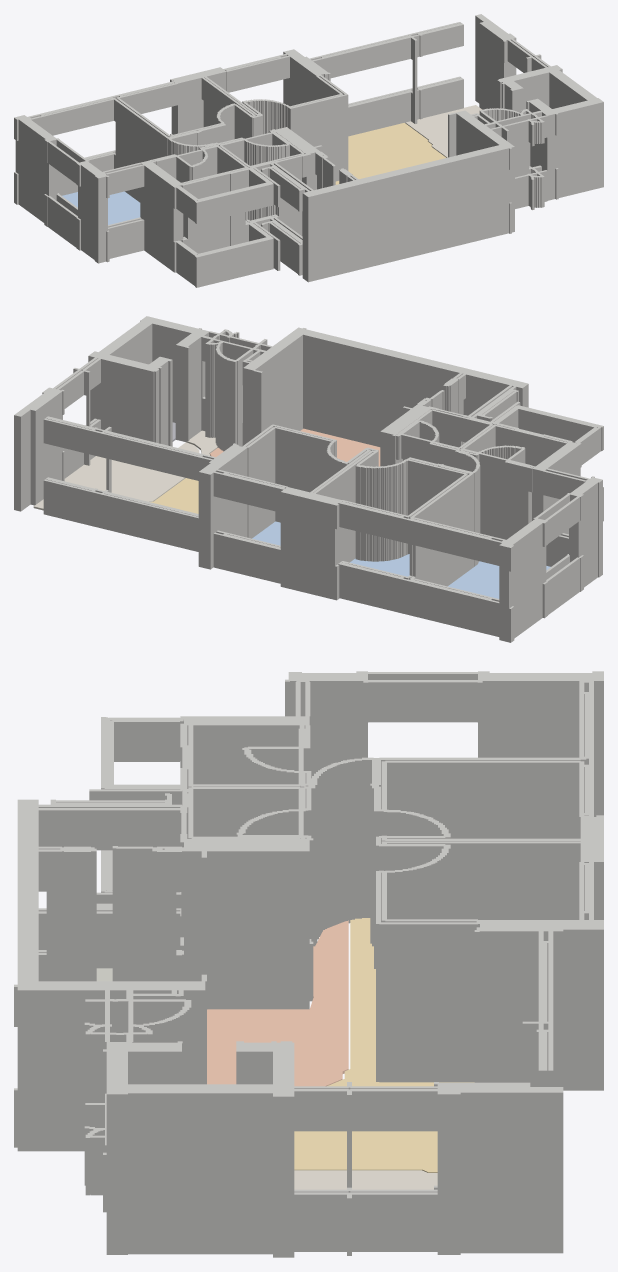
3 renders of one model, top to bottom at view 1: azimuth 30°, elevation 25°; view 2: azimuth 150°, elevation 25°; view 3: azimuth 270°, elevation 25°, orthographic. The views are drawn at different scales.
Visible parts, largest first — view 1: walls, room:living:3, room:other:6, room:bedroom:0; view 2: walls, room:other:6, room:bedroom:0, room:living:3, room:kitchen:5, room:bedroom:1; view 3: walls, room:kitchen:5, room:living:3, room:other:6.
Boxes of the visible parts, bbox=[...] form: walls: bbox=[14, 14, 603, 287]; room:living:3: bbox=[335, 123, 446, 184]; room:other:6: bbox=[405, 105, 482, 157]; room:bedroom:0: bbox=[62, 191, 140, 224]; walls: bbox=[14, 316, 603, 642]; room:other:6: bbox=[33, 430, 217, 510]; room:bedroom:0: bbox=[448, 561, 550, 598]; room:living:3: bbox=[150, 478, 198, 513]; room:kitchen:5: bbox=[210, 428, 380, 466]; room:bedroom:1: bbox=[350, 554, 409, 576]; walls: bbox=[14, 671, 603, 1257]; room:kitchen:5: bbox=[207, 920, 348, 1086]; room:living:3: bbox=[294, 918, 474, 1172]; room:other:6: bbox=[294, 1170, 437, 1189].
Size of the model in its own units: 15.87 by 2.8 by 9.31.
